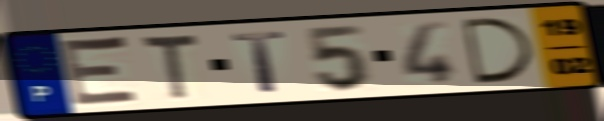4: (398, 20, 461, 87)
5: (300, 22, 377, 94)
D: (457, 15, 539, 86)
E: (58, 34, 145, 109)
T: (138, 31, 202, 102), (228, 29, 291, 95)
